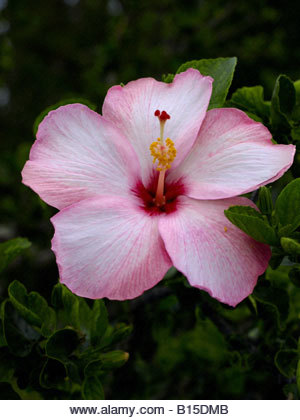Hibiscus: (32, 77, 287, 317)
